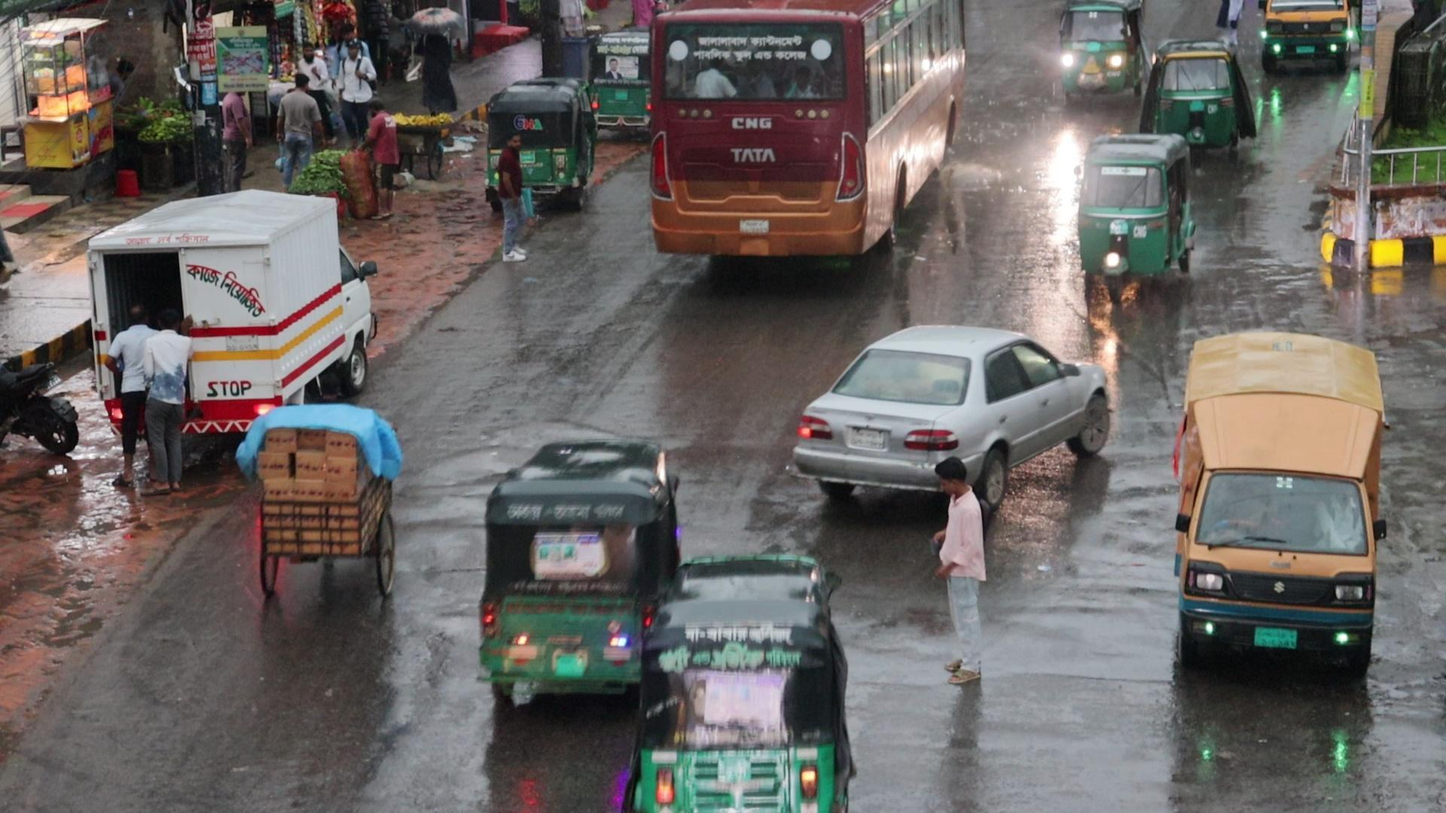Bus: (648, 5, 964, 267)
Car: (791, 320, 1116, 527)
Truck: (1171, 326, 1387, 699)
